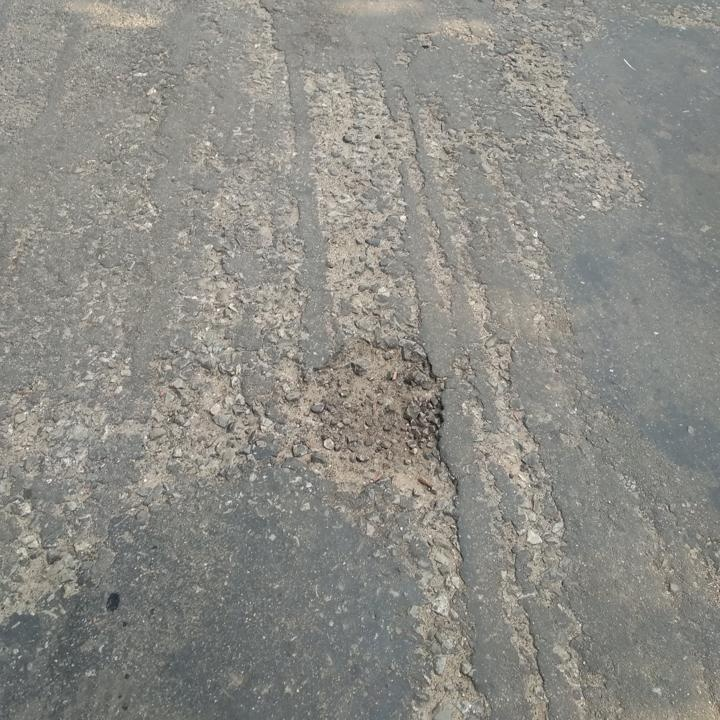pothole: (303, 334, 463, 506)
